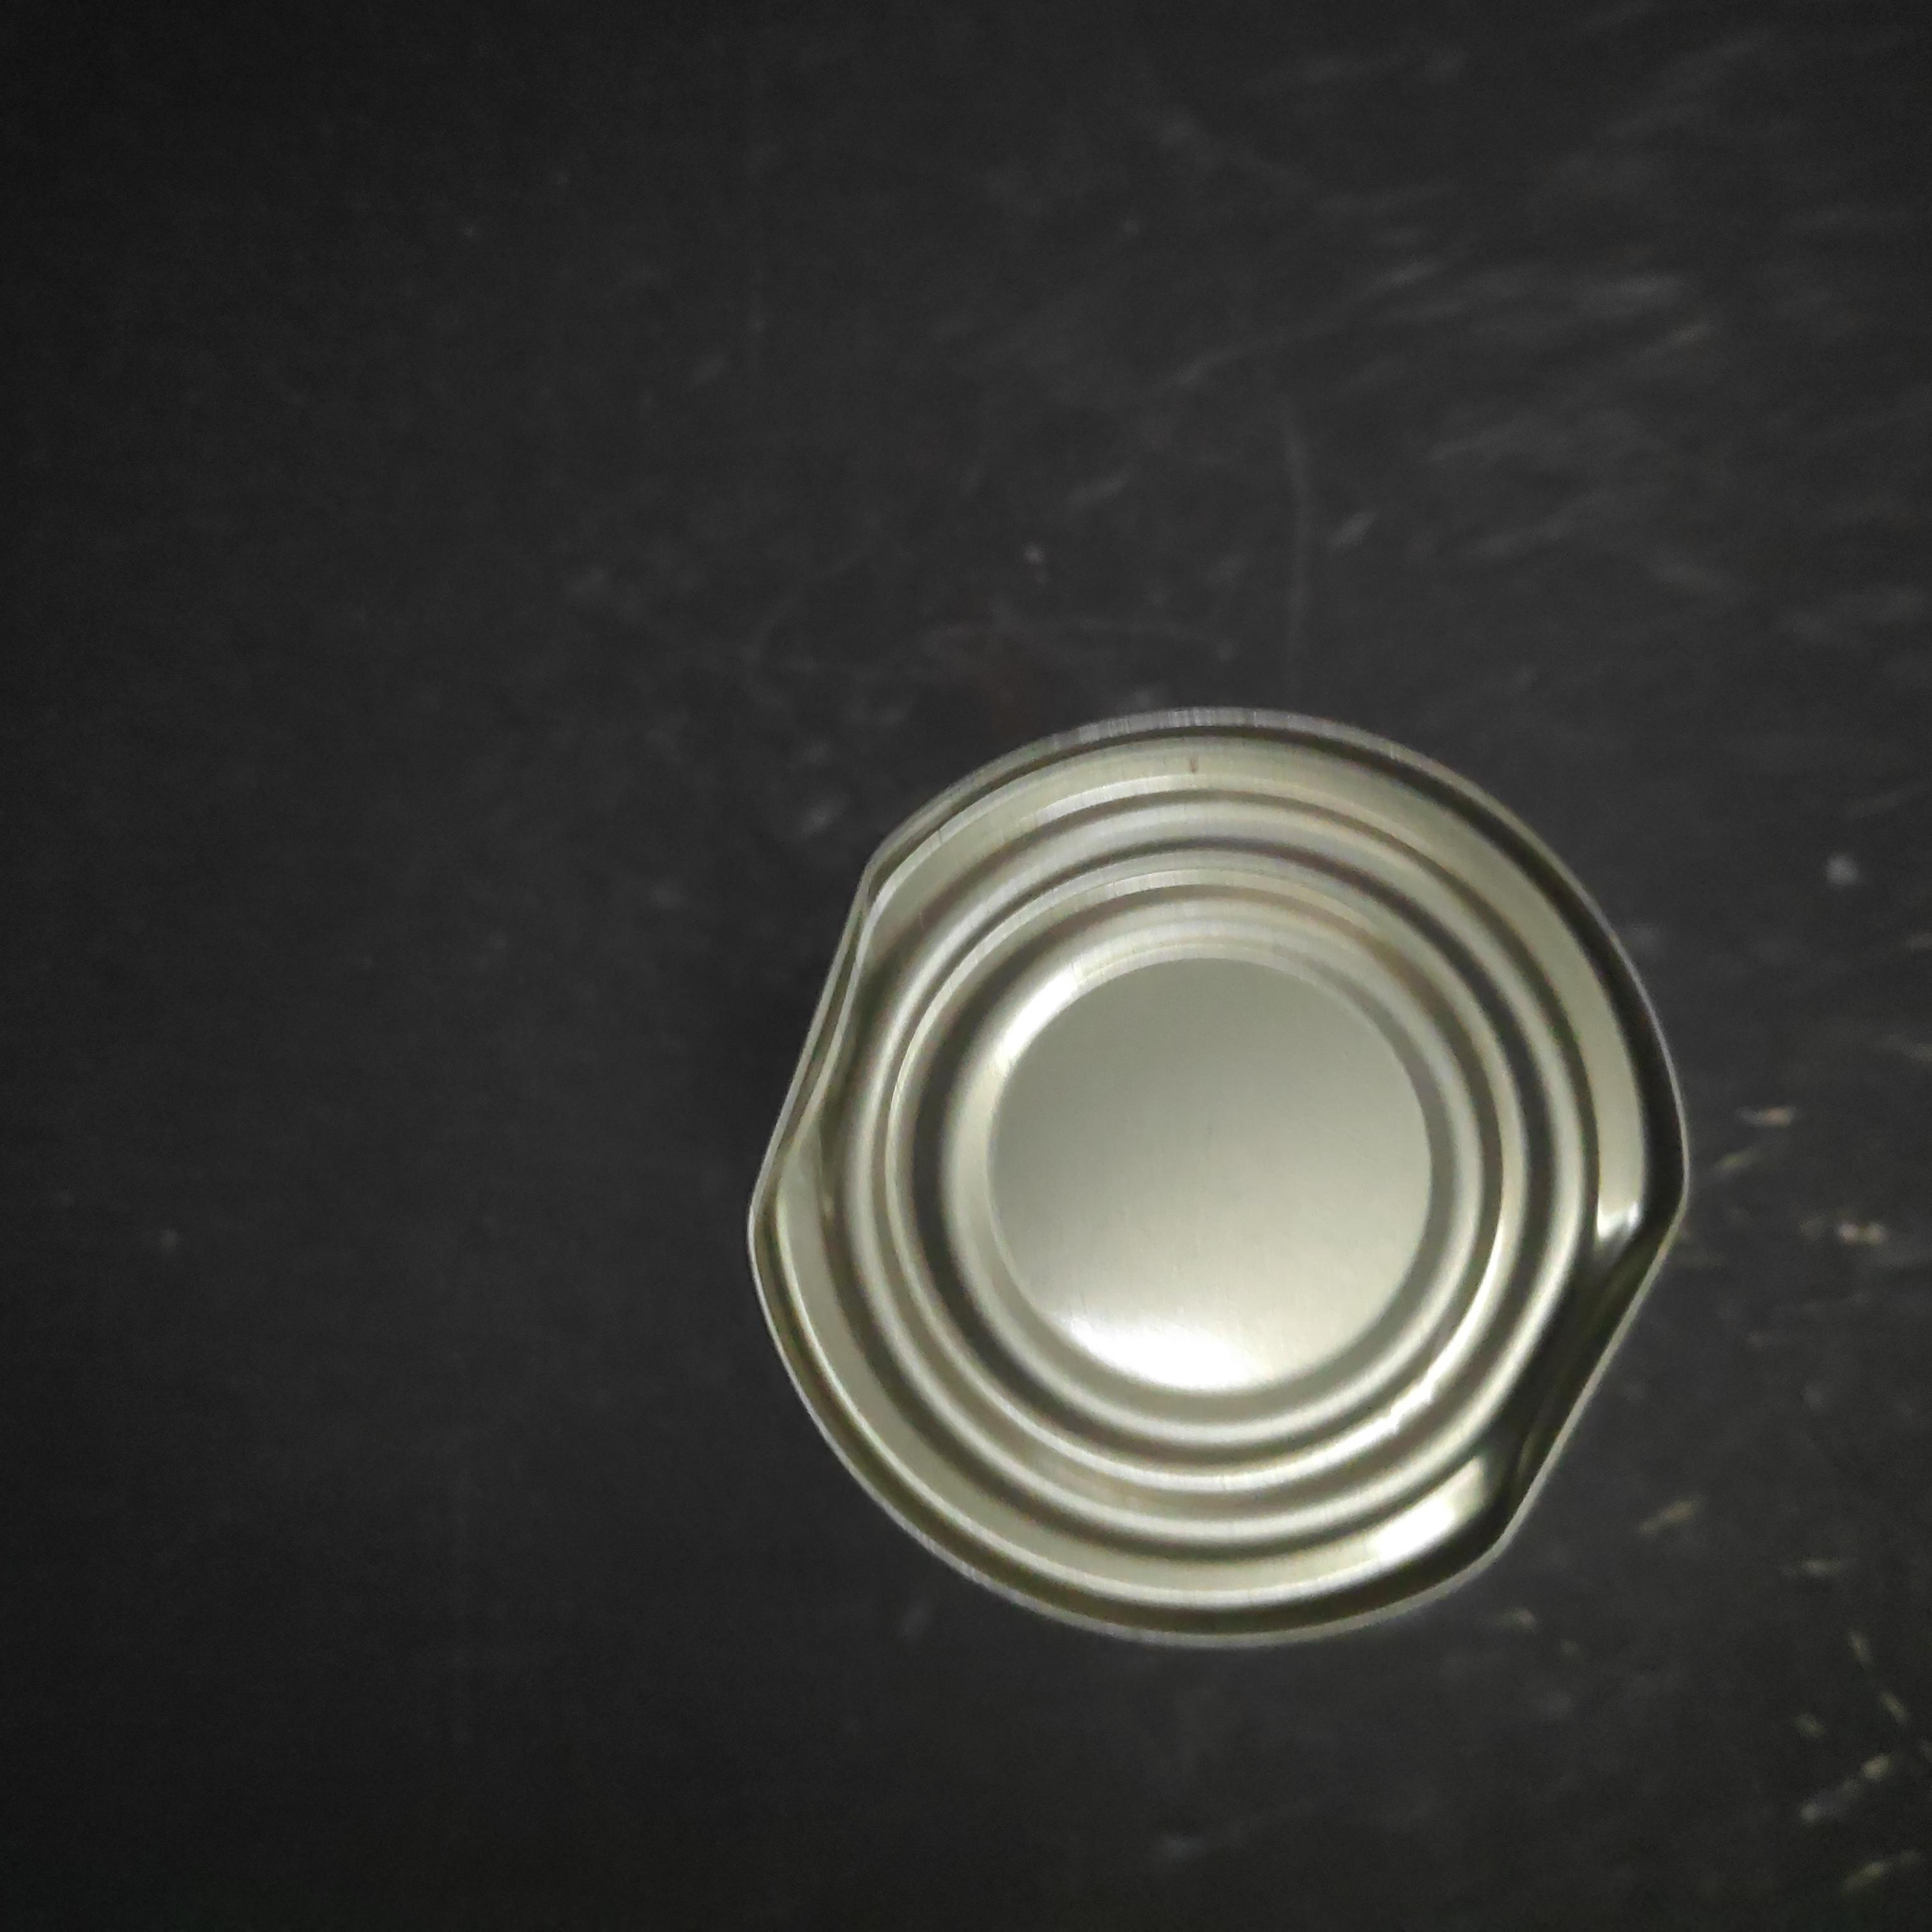Minor Defect: (732, 694, 1709, 1677)
